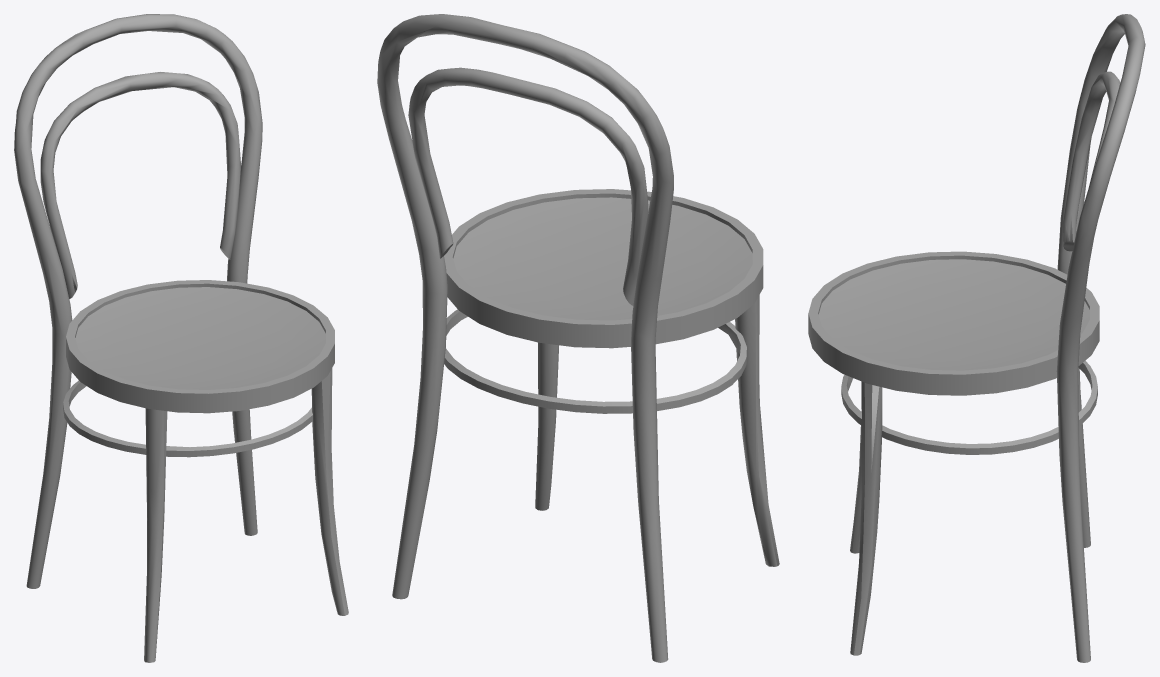
The model's file is Chair 4.FBX.
The picture shows the model from 3 angles, left to right: view 1: azimuth 30°, elevation 25°; view 2: azimuth 150°, elevation 25°; view 3: azimuth 270°, elevation 25°; orthographic projection. The views are drawn at different scales.
Visible parts, largest first — view 1: Chair 4; view 2: Chair 4; view 3: Chair 4.
Boxes of the visible parts, <box> form: Chair 4: <box>14,14,348,662</box>; Chair 4: <box>377,14,779,662</box>; Chair 4: <box>808,14,1145,662</box>.
Bounding box in the file's own units: 50.51 × 104 × 56.13.
Materials: 1 (1 with a texture image).
